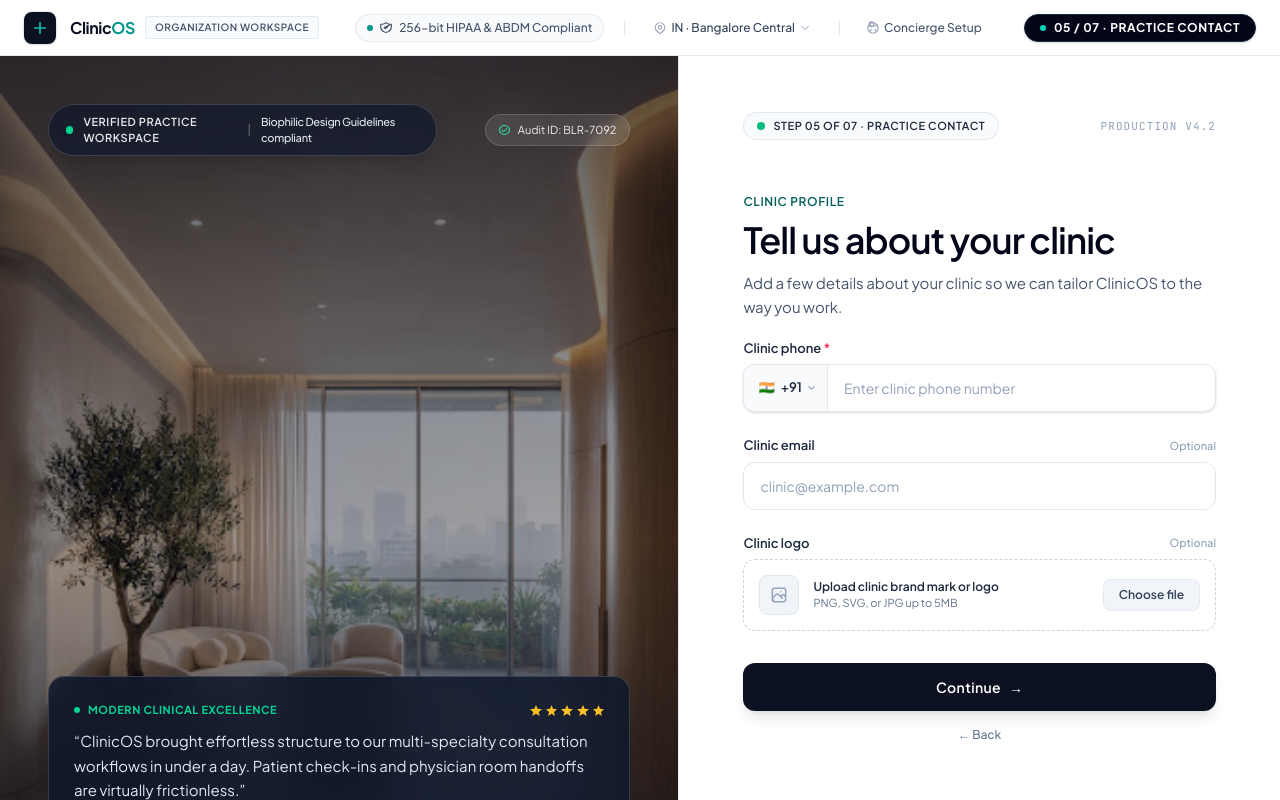
it: practice contact page › rejects an invalid phone number and an invalid optional email
This screenshot has width=1280, height=800.
In the field labelled "Clinic phone *": [1021, 388] box x1=828 y1=365 x2=1215 y2=411, type "12345"
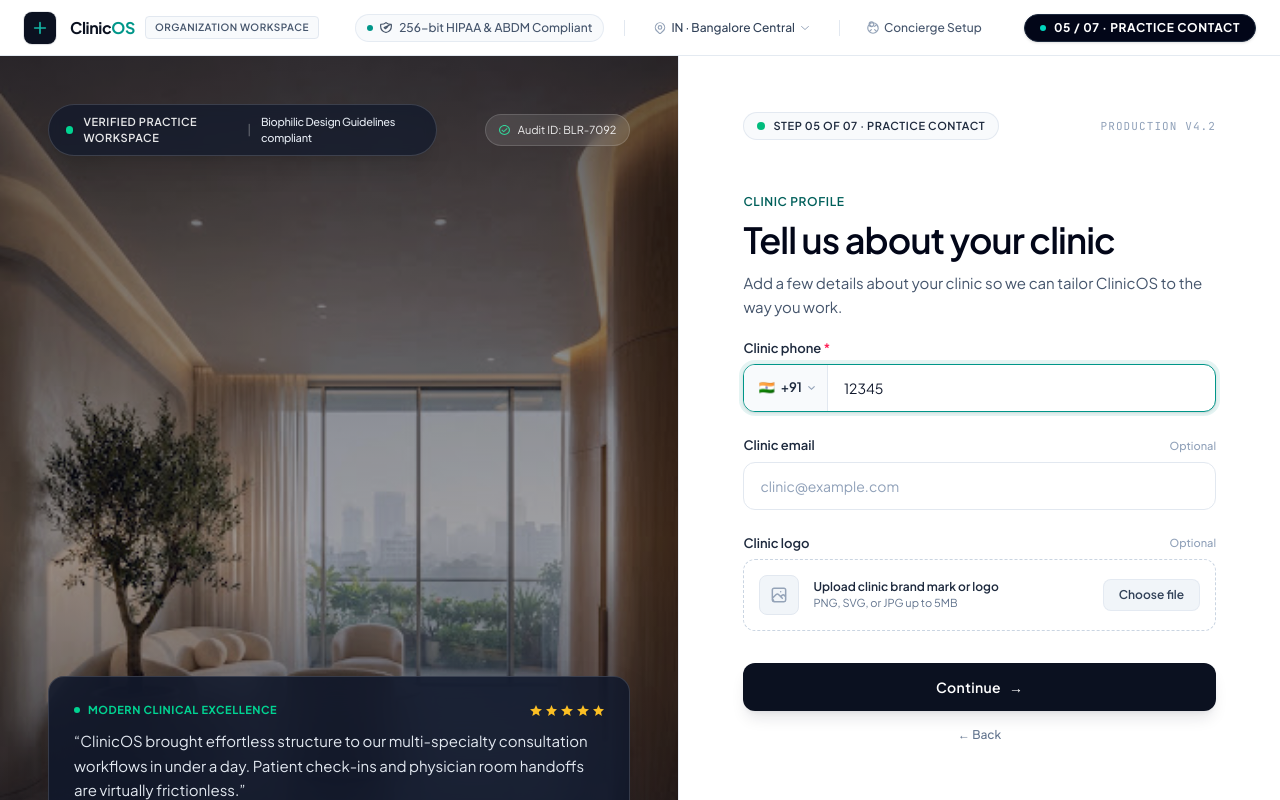
In the field labelled "Clinic email": [980, 486] box x1=743 y1=462 x2=1216 y2=510, type "front-desk"
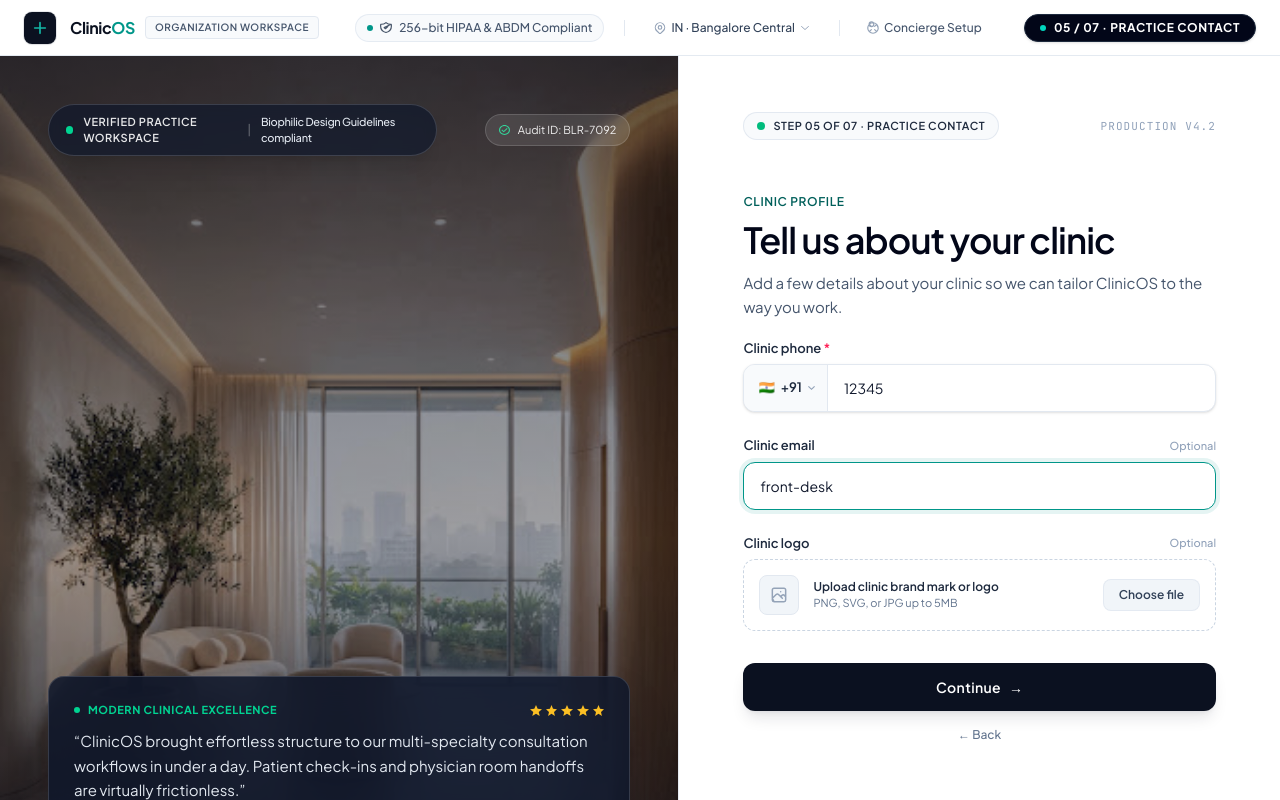
Click the button "Continue →": [980, 687] box x1=743 y1=663 x2=1216 y2=711
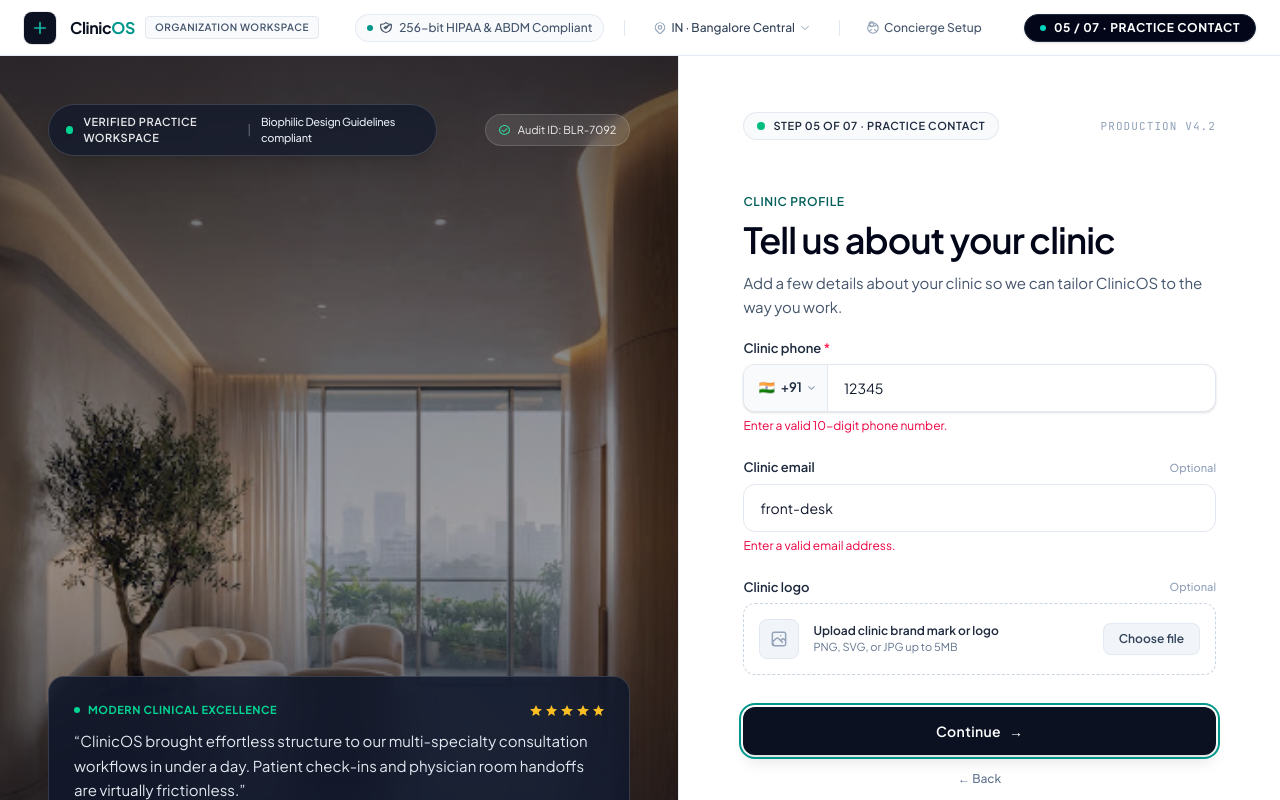
Result: the text "Enter a valid 10-digit phone number." is shown at x1=743 y1=418 x2=948 y2=433
Result: the text "Enter a valid email address." is shown at x1=743 y1=538 x2=895 y2=553
